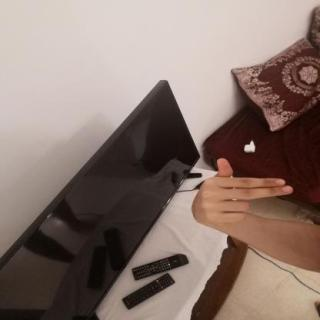GHAYN: (185, 154, 301, 232)
